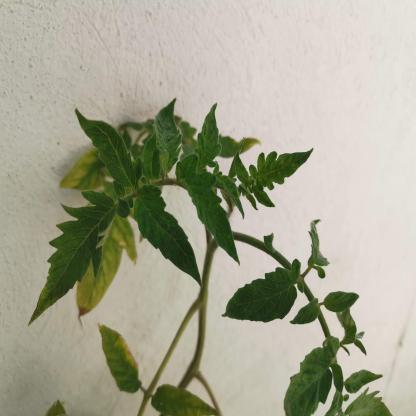T_L_H: (134, 185, 204, 289), (222, 259, 302, 324), (324, 292, 360, 313), (291, 299, 320, 325)
T_L_R: (29, 191, 117, 327), (177, 155, 242, 268), (76, 108, 136, 189), (285, 347, 333, 416), (250, 149, 314, 192), (153, 99, 184, 175), (196, 103, 223, 174), (214, 172, 245, 220), (144, 134, 162, 181), (235, 151, 250, 189)
